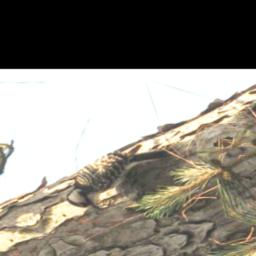Woodpecker: (44, 133, 194, 219)
